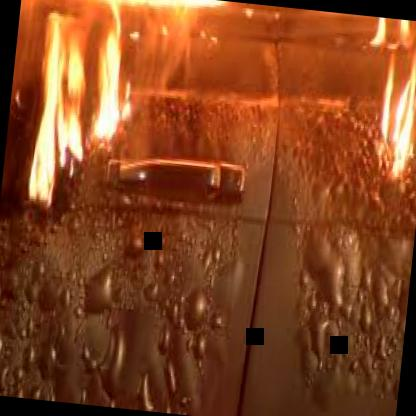fire: (0, 0, 150, 243), (308, 12, 416, 237)
